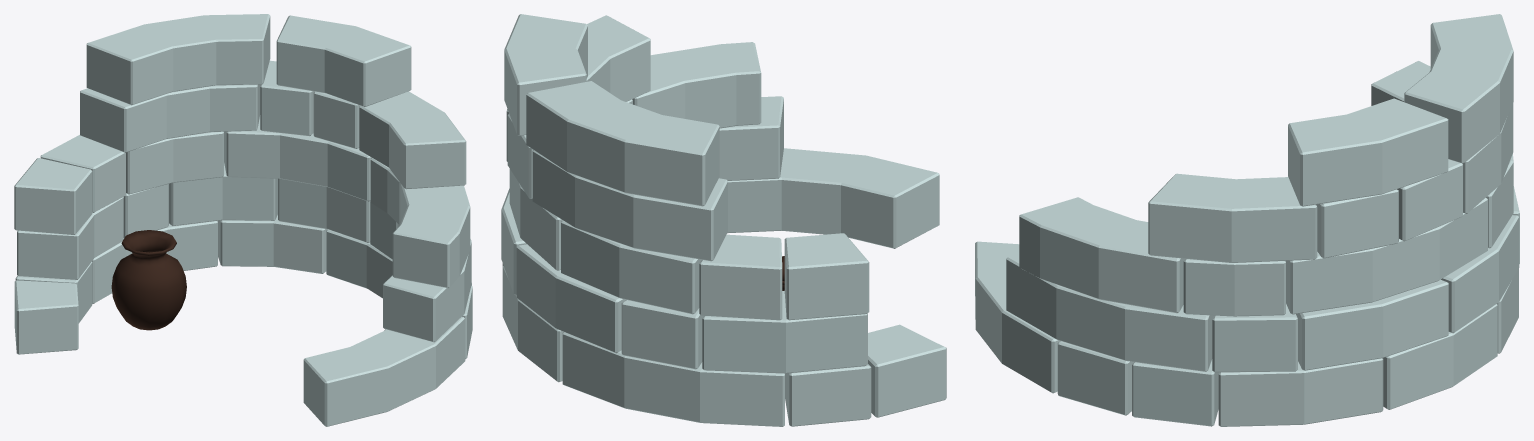
The model's file is Mesh_freezeland_igloo1.FBX.
3 renders of one model, left to right at view 1: azimuth 30°, elevation 25°; view 2: azimuth 150°, elevation 25°; view 3: azimuth 270°, elevation 25°, orthographic. The views are drawn at different scales.
Visible parts, largest first — view 1: Mesh_freezeland_igloo1; view 2: Mesh_freezeland_igloo1; view 3: Mesh_freezeland_igloo1.
Boxes of the visible parts, <box> form: Mesh_freezeland_igloo1: <box>14,14,472,426</box>; Mesh_freezeland_igloo1: <box>501,14,946,426</box>; Mesh_freezeland_igloo1: <box>975,14,1519,426</box>.
Bounding box in the file's own units: 245 × 252 × 138.
